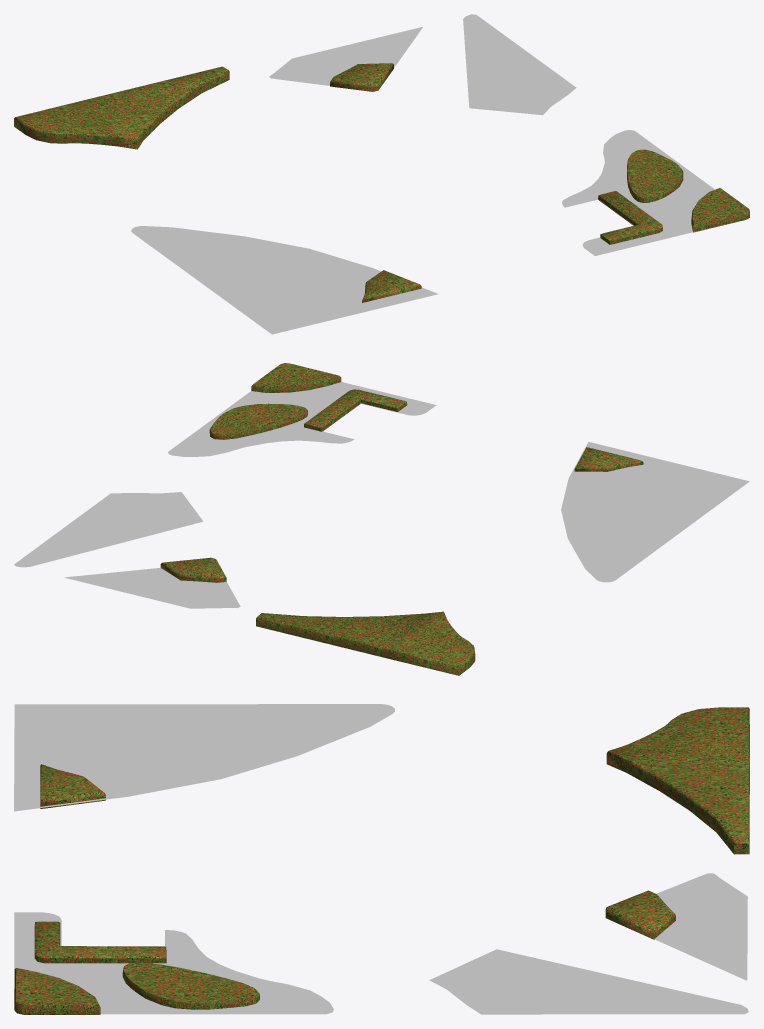
The model's file is Office_007_grass.FBX.
3 views of the same model, one above another, from view 1: azimuth 30°, elevation 25°; view 2: azimuth 150°, elevation 25°; view 3: azimuth 270°, elevation 25° (orthographic). The views are drawn at different scales.
Parts seen in each view (by area): view 1: Office_007_grass2, Office_007_grass1; view 2: Office_007_grass2, Office_007_grass1; view 3: Office_007_grass2, Office_007_grass1.
Part boxes in pixels (left/top/right/bottom): Office_007_grass2: left=131, top=14, right=714, bottom=334; Office_007_grass1: left=14, top=63, right=749, bottom=302; Office_007_grass2: left=14, top=382, right=749, bottom=608; Office_007_grass1: left=160, top=363, right=643, bottom=675; Office_007_grass2: left=14, top=704, right=748, bottom=1014; Office_007_grass1: left=14, top=707, right=749, bottom=1014.
Bounding box in the file's own units: 95.22 × 2.01 × 95.5.
